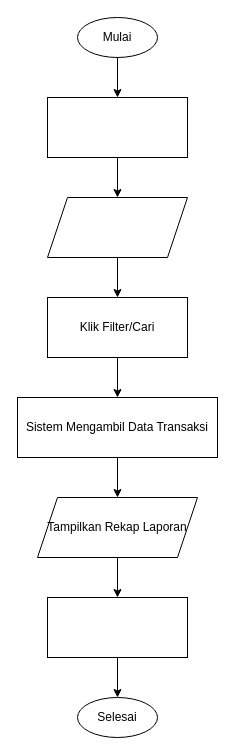
The diagram is 235 pixels wide and 755 high, and some of its shapes have lost their labels. The shapes that lost their labels are listed below. From the top down, each one's centre as x and y in pixels, then its label:
At pixel 117 127: "Menu Laporan".
At pixel 117 227: "Pilih Periode Laporan".
At pixel 117 627: "Cetak / Export PDF".
